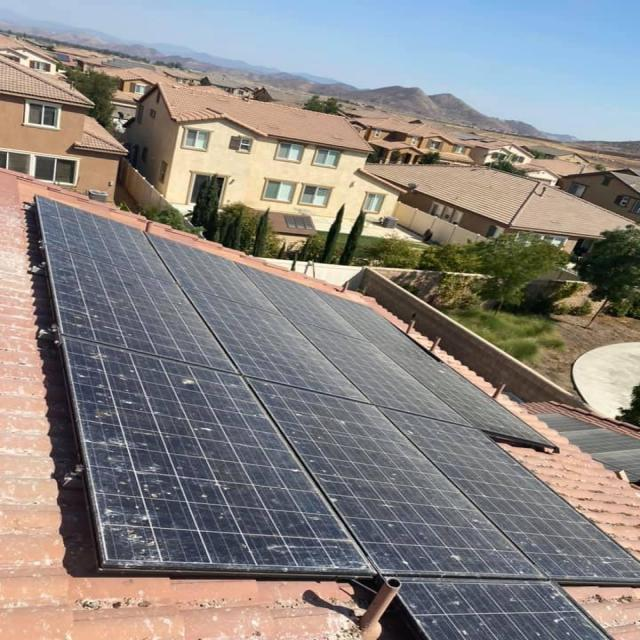soiled: (33, 196, 638, 640)
